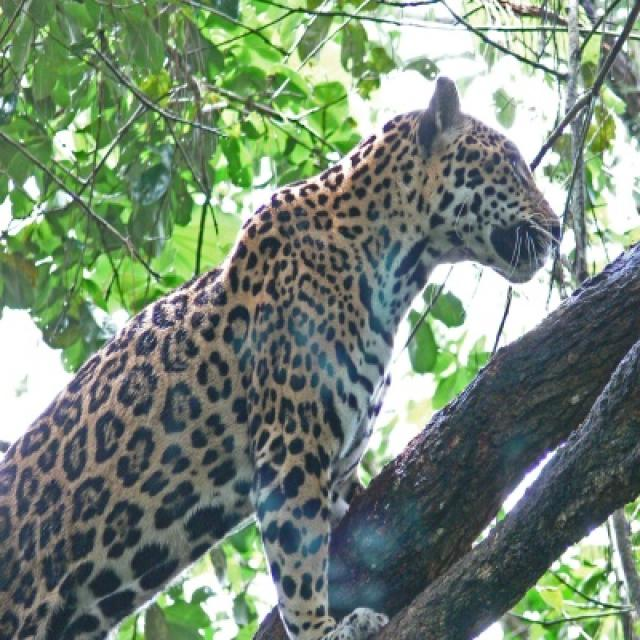Jaguar: (0, 77, 562, 638)
